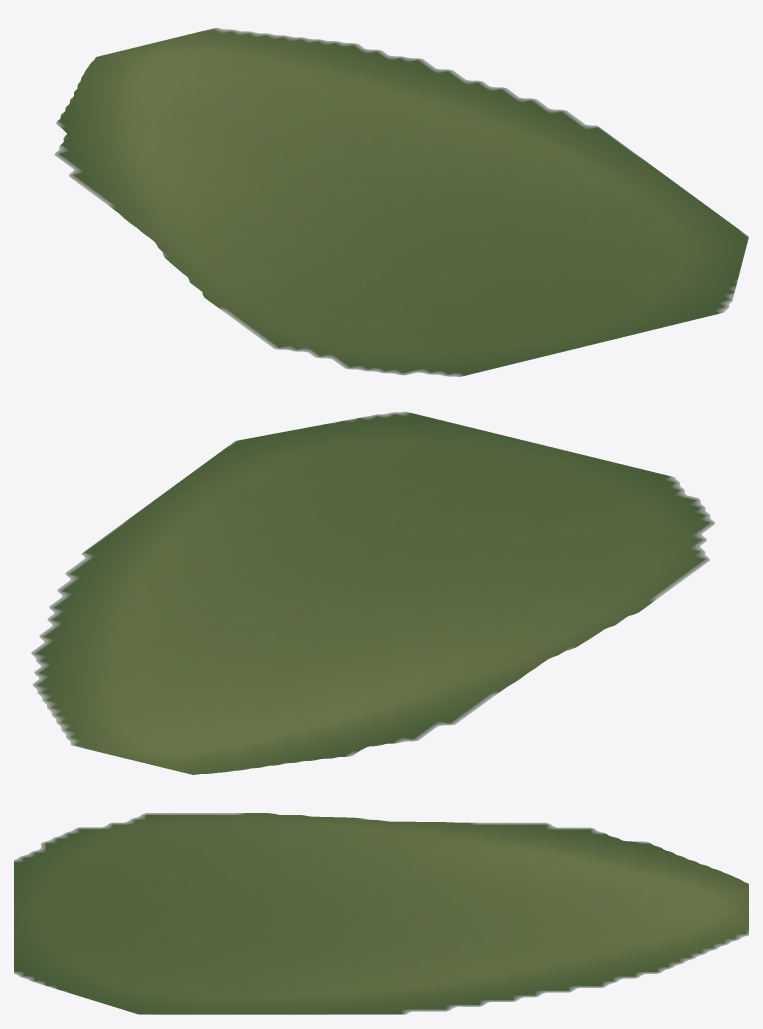
Rendered from Overgrowth3.fbx.
3 views of the same model, one above another, from view 1: azimuth 30°, elevation 25°; view 2: azimuth 150°, elevation 25°; view 3: azimuth 270°, elevation 25° (orthographic). The views are drawn at different scales.
Parts seen in each view (by area): view 1: polySurface3; view 2: polySurface3; view 3: polySurface3.
Boxes of the visible parts, bbox=[...] form: polySurface3: bbox=[54, 27, 748, 376]; polySurface3: bbox=[31, 411, 714, 774]; polySurface3: bbox=[14, 813, 748, 1014].
Bounding box in the file's own units: 24.22 × 1.24e-14 × 36.44.
